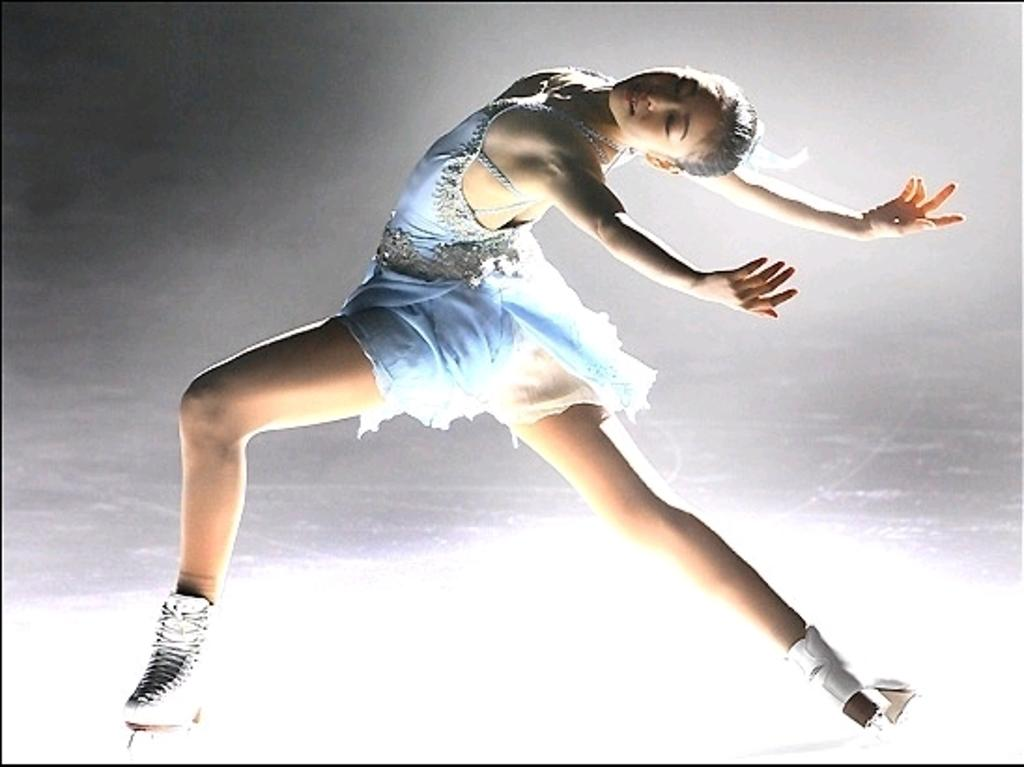face: (610, 70, 726, 158)
